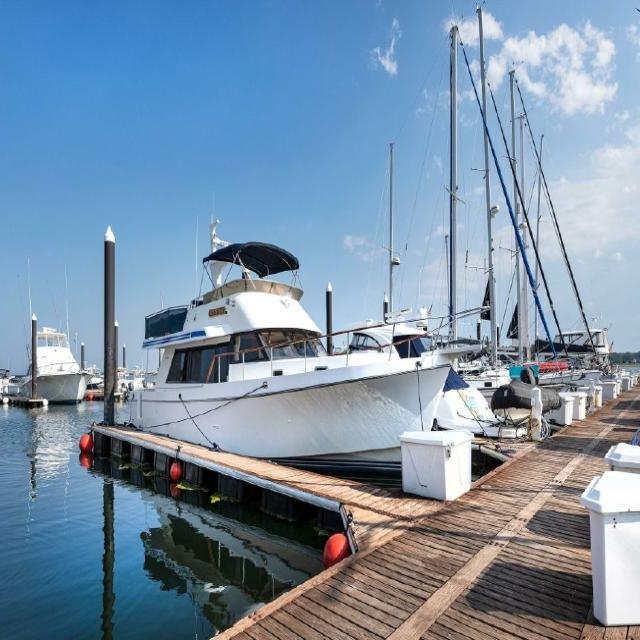passenger ship: (115, 241, 444, 475)
